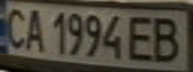1: (45, 8, 69, 55)
4: (100, 11, 127, 61)
9: (81, 11, 106, 58), (63, 9, 84, 56)
A: (21, 6, 48, 52)
B: (148, 13, 190, 64)
C: (0, 3, 30, 51)
E: (124, 12, 160, 62)
